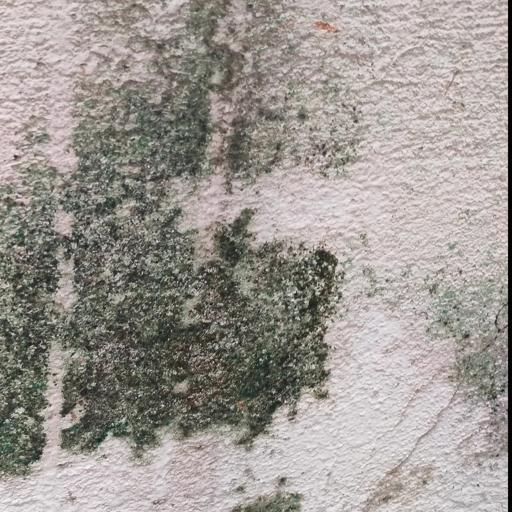algae: (14, 11, 377, 477)
